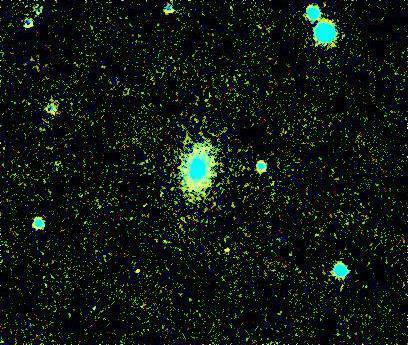star: (214, 240, 244, 270)
